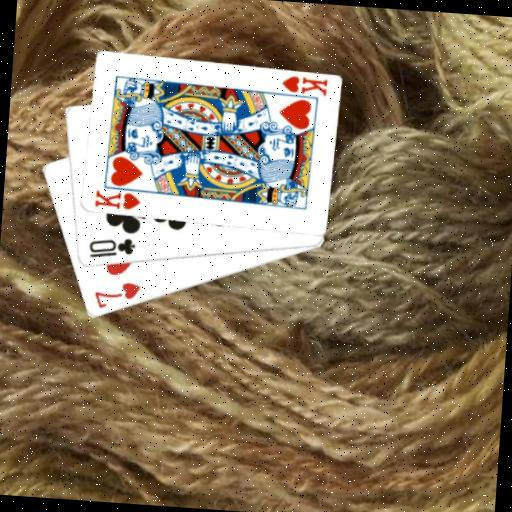10C: (85, 233, 137, 263)
7H: (90, 277, 143, 314)
KH: (277, 73, 329, 98), (91, 188, 142, 213)
